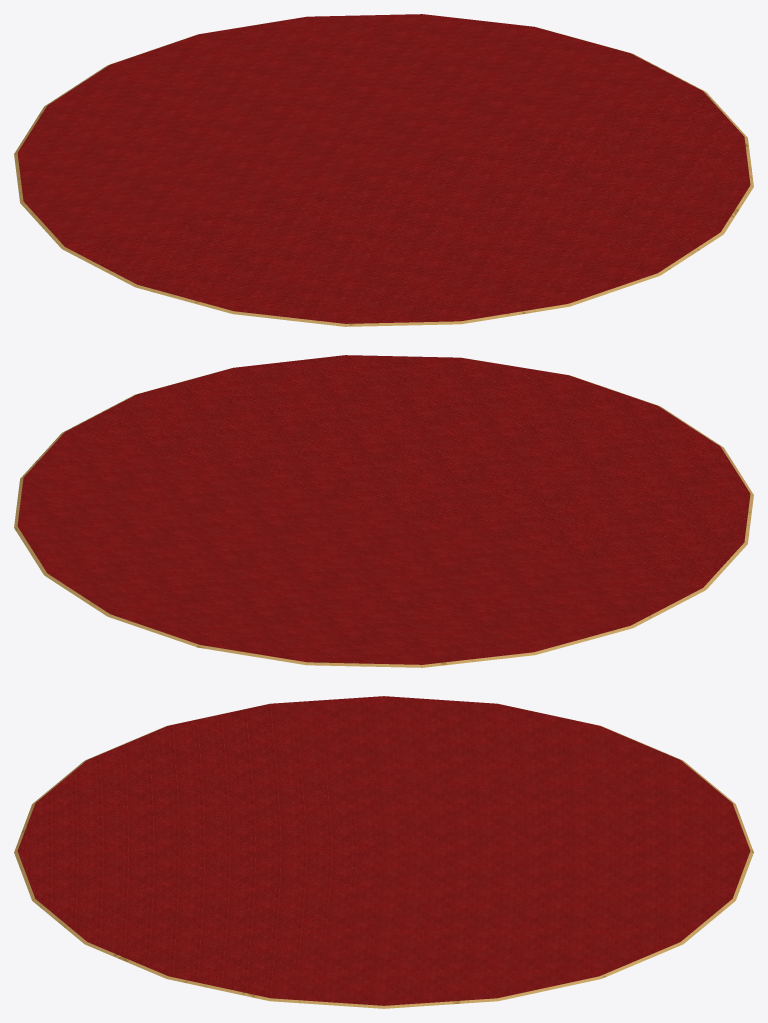
File: Carpet.glb
3 renders of one model, top to bottom at view 1: azimuth 30°, elevation 25°; view 2: azimuth 150°, elevation 25°; view 3: azimuth 270°, elevation 25°, orthographic.
Parts seen in each view (by area): view 1: Carpet; view 2: Carpet; view 3: Carpet.
Part boxes in pixels (bbox=[...]): Carpet: bbox=[14, 14, 753, 326]; Carpet: bbox=[14, 355, 753, 667]; Carpet: bbox=[14, 696, 753, 1008].
Size of the model in its own units: 6.19 by 0.0137 by 6.19.
2 materials, 2 textured.
